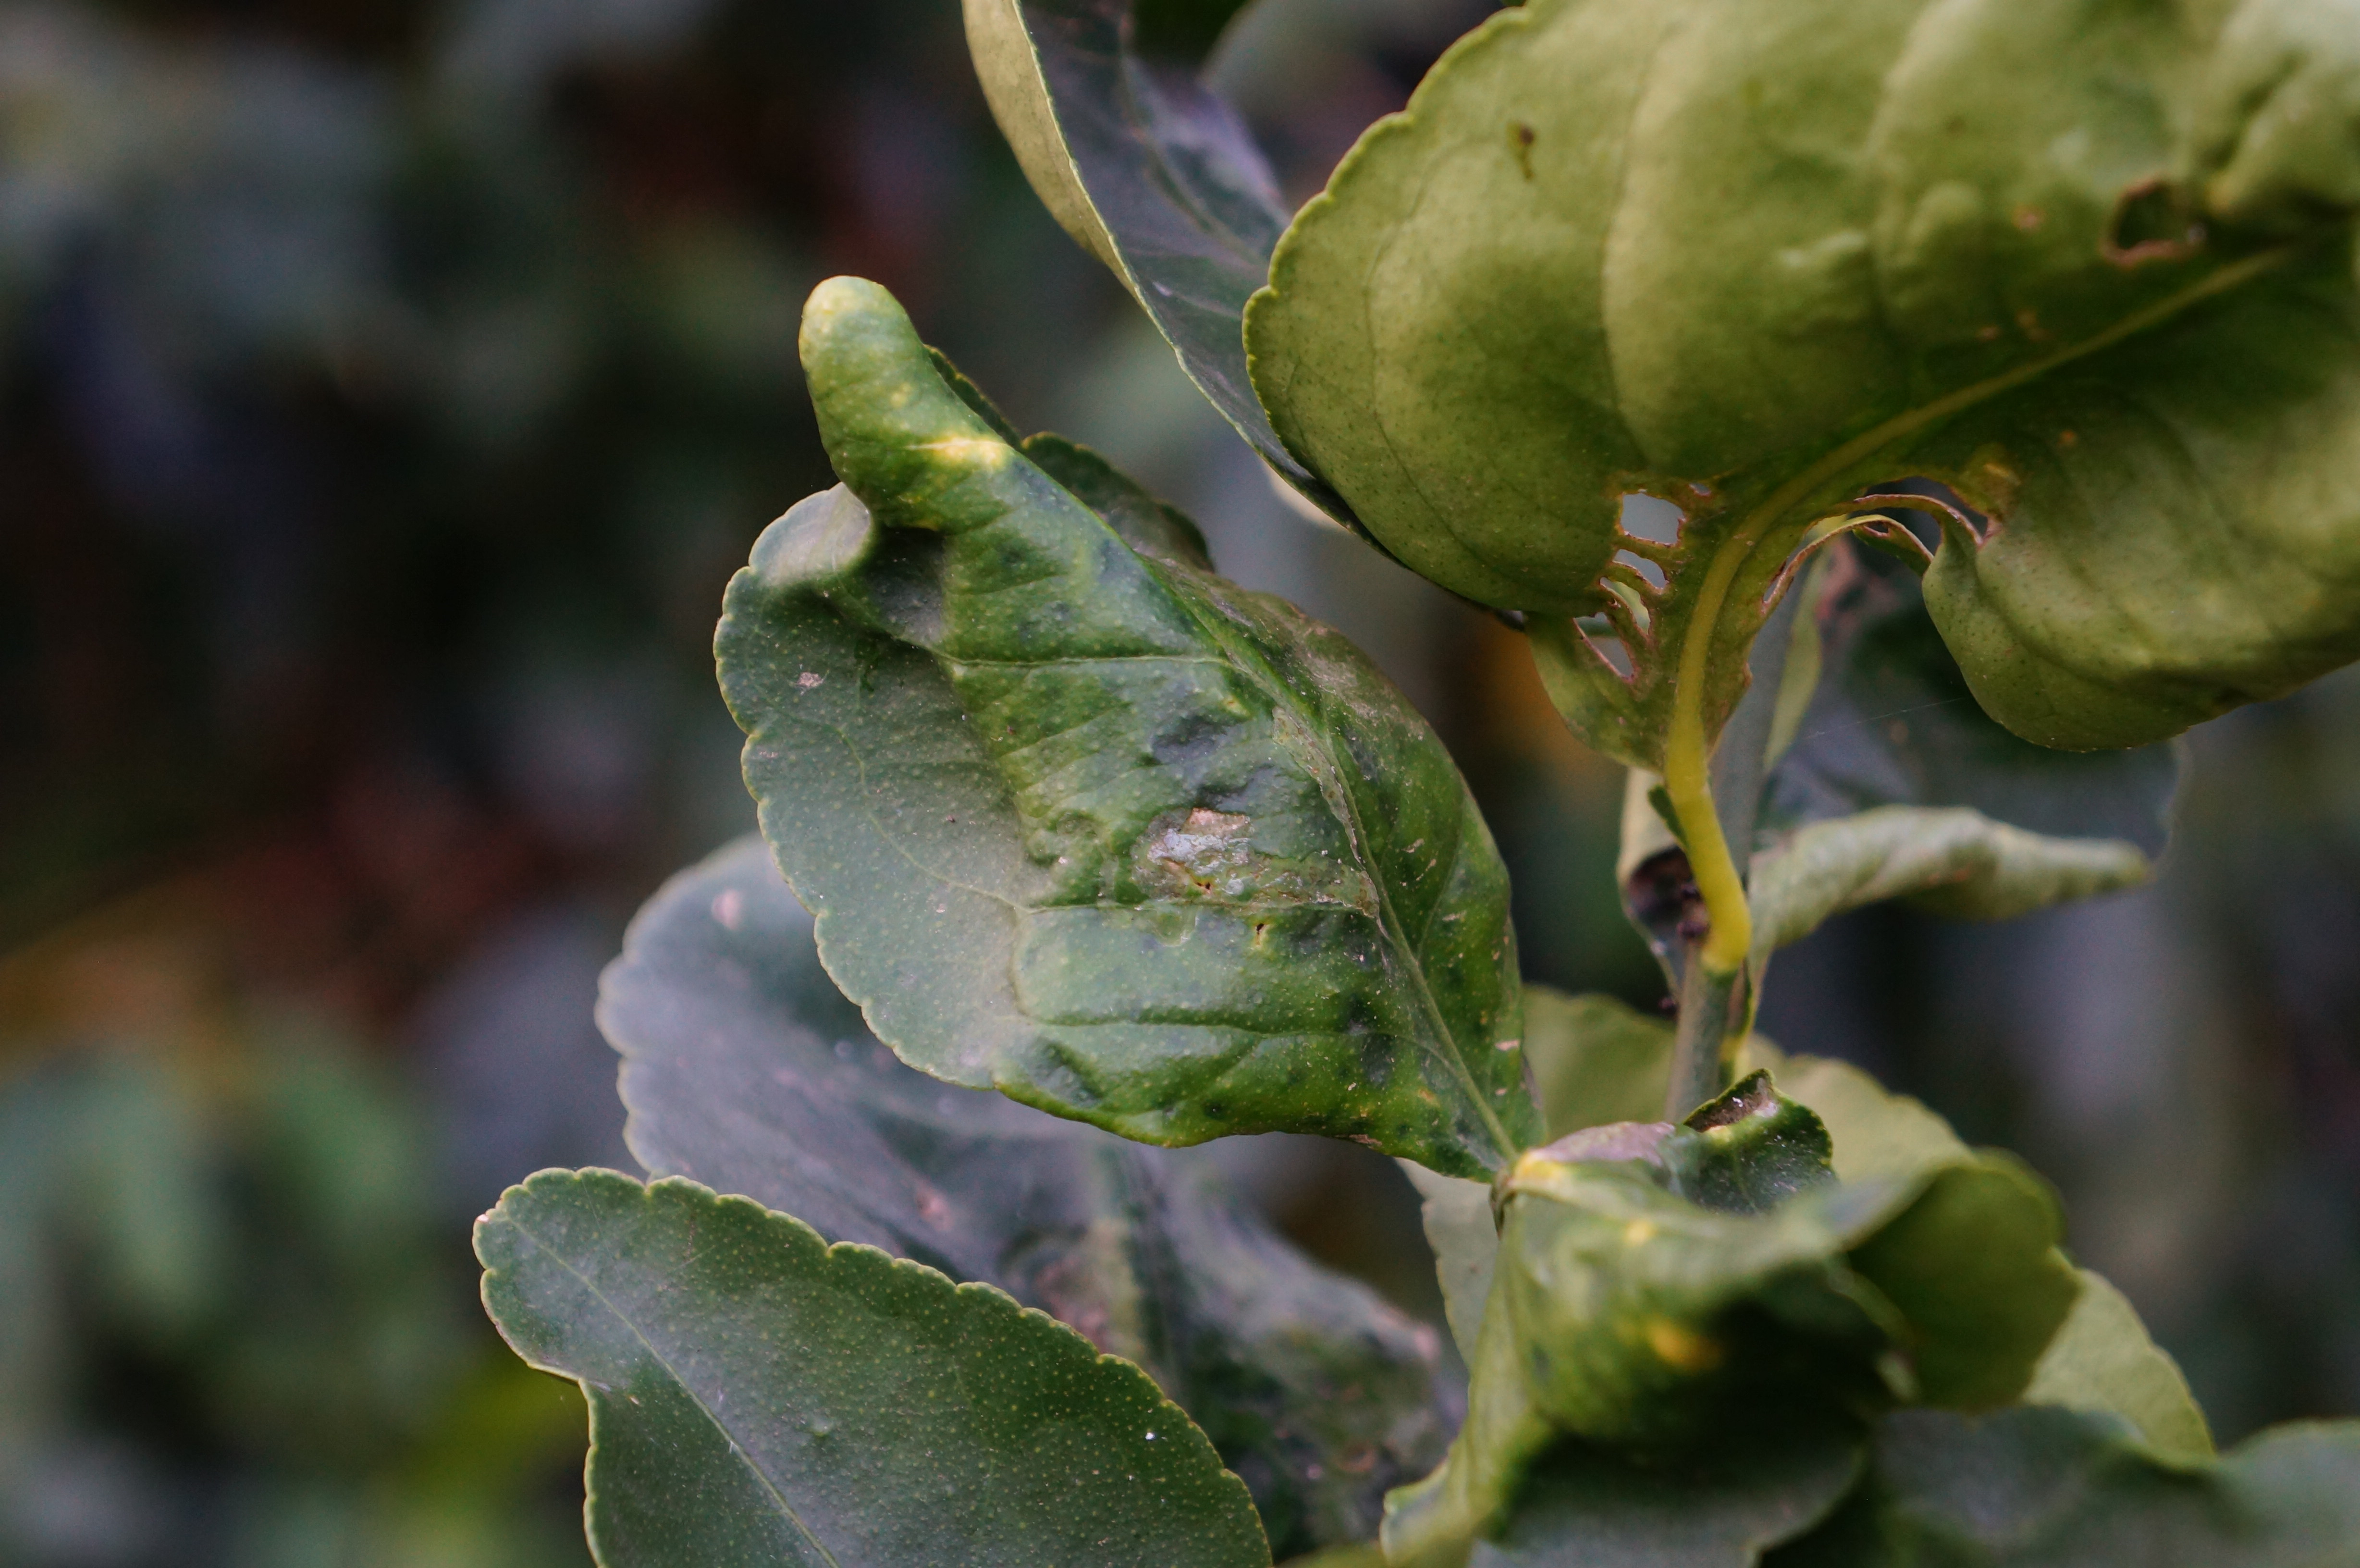damage: (1092, 691, 1363, 931), (1561, 444, 1714, 703)
